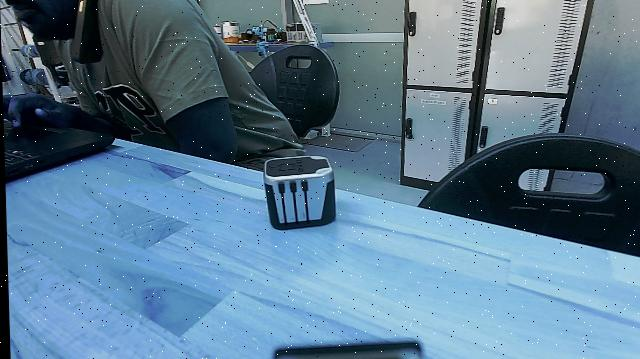adapter: (256, 152, 339, 236)
